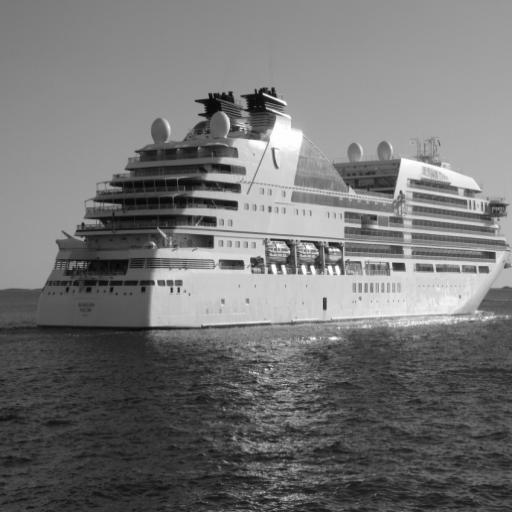cruises: (29, 78, 512, 345)
